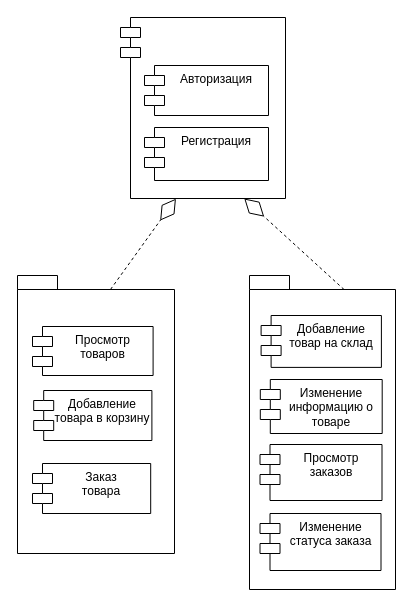
The diagram is 413 pixels wide and 607 high, and some of its shapes have lost their labels. The shapes that lost their labels are listed below. From the top down, each one's box as (x1, y1, x2, y2) in pixels, then its label:
(120, 16, 286, 198): Система
(16, 274, 174, 554): Пользователь
(248, 274, 396, 590): Администратор
